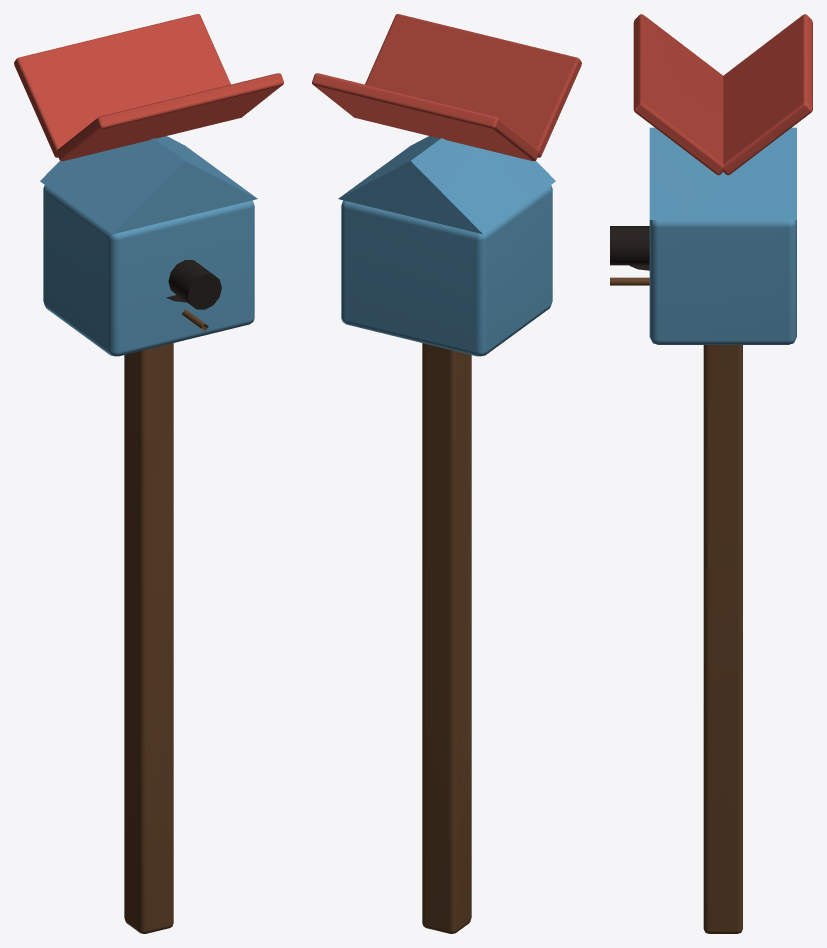
File: furn_od_birdhouse.glb
3 renders of one model, left to right at view 1: azimuth 30°, elevation 25°; view 2: azimuth 150°, elevation 25°; view 3: azimuth 270°, elevation 25°, orthographic.
Parts seen in each view (by area): view 1: furn_od_birdhouse_main; view 2: furn_od_birdhouse_main; view 3: furn_od_birdhouse_main.
Part boxes in pixels (left/top/right/bottom): furn_od_birdhouse_main: left=14, top=14, right=283, bottom=933; furn_od_birdhouse_main: left=312, top=14, right=581, bottom=933; furn_od_birdhouse_main: left=610, top=14, right=812, bottom=933.
Size of the model in its own units: 0.38 by 1.7 by 0.3582.
